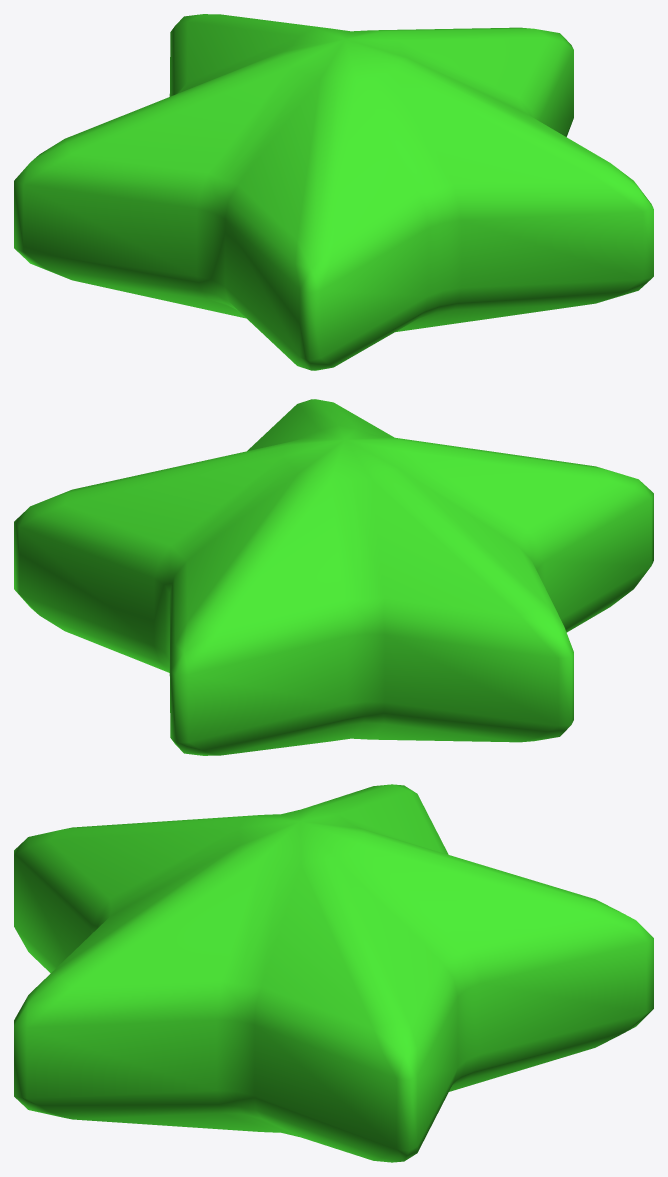
The model's file is etoile_green.glb.
3 renders of one model, top to bottom at view 1: azimuth 30°, elevation 25°; view 2: azimuth 150°, elevation 25°; view 3: azimuth 270°, elevation 25°, orthographic. The views are drawn at different scales.
Visible parts, largest first — view 1: Cylinder.002; view 2: Cylinder.002; view 3: Cylinder.002.
Part boxes in pixels (left/top/right/bottom): Cylinder.002: left=14, top=14, right=653, bottom=370; Cylinder.002: left=14, top=399, right=653, bottom=755; Cylinder.002: left=14, top=784, right=653, bottom=1162.
Size of the model in its own units: 1.84 by 0.9202 by 1.75.
